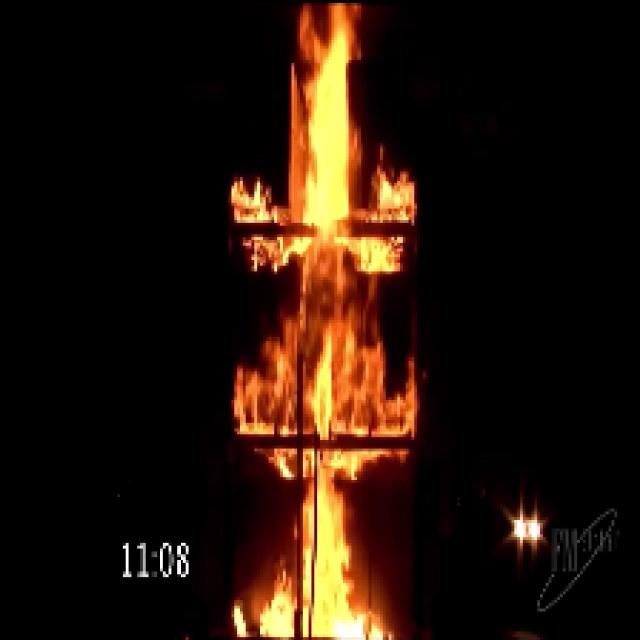fire: (254, 14, 394, 629)
